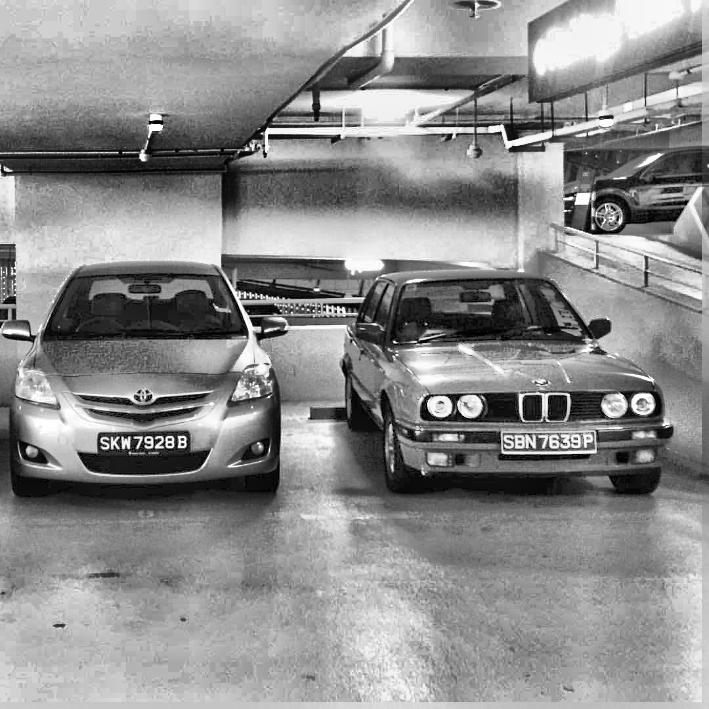License-Plates: (502, 433, 594, 450), (98, 434, 189, 450)
